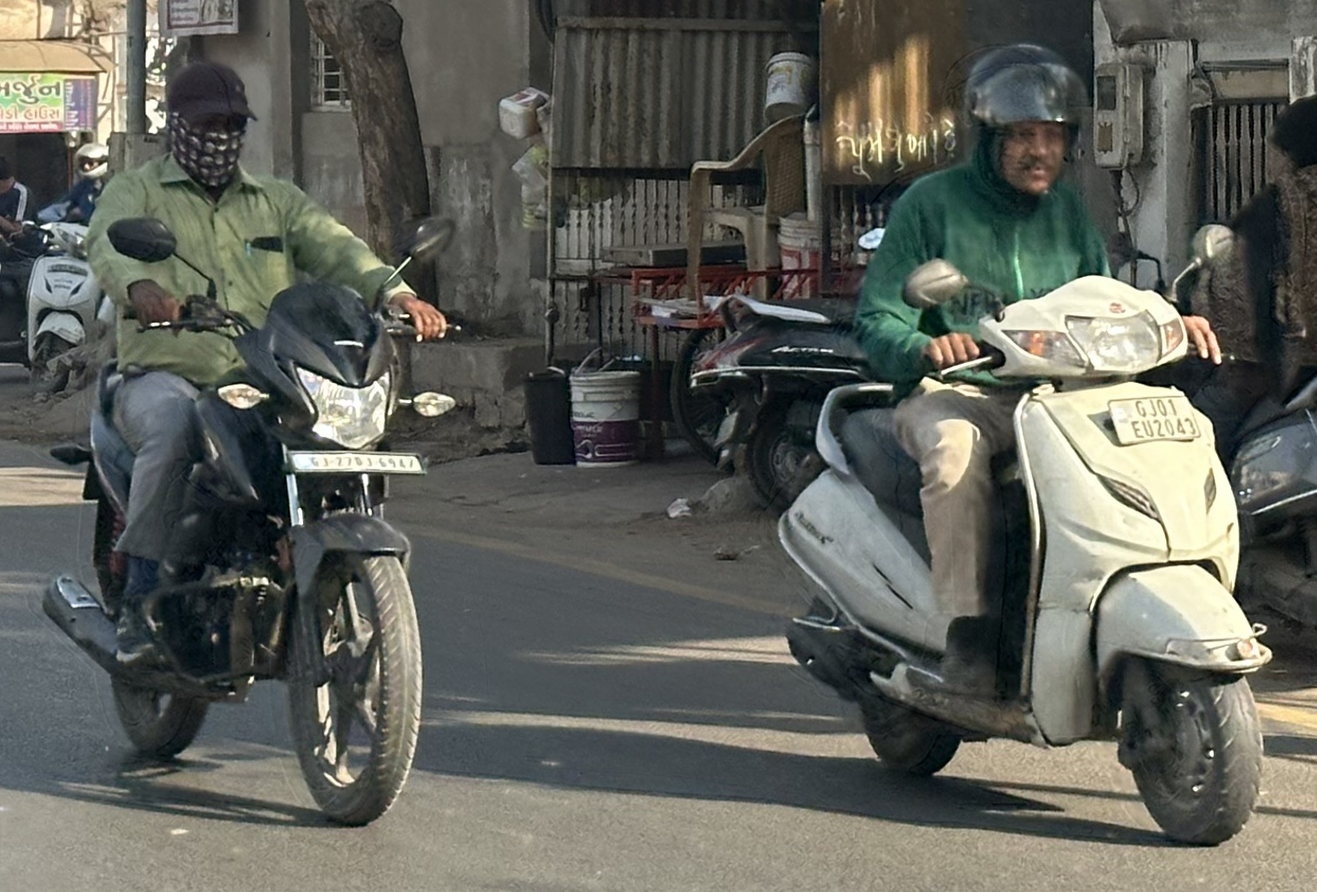BikeWithRider: (757, 31, 1282, 853), (32, 51, 473, 834), (21, 133, 126, 387)
Helmet: (951, 34, 1098, 207), (74, 136, 112, 182)
NoHelmet: (149, 50, 271, 195)
